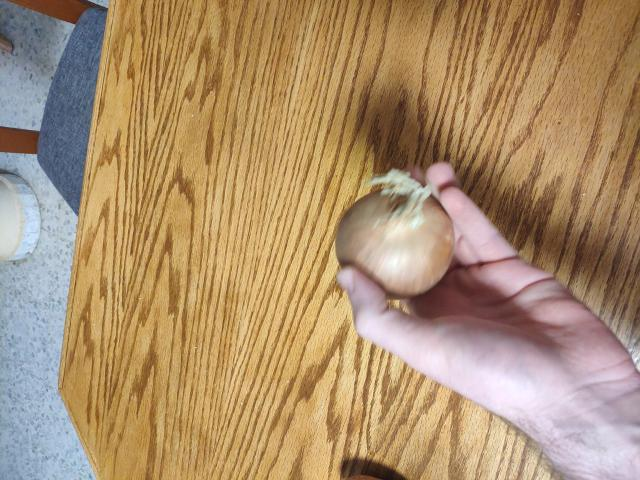onion: (335, 191, 462, 299)
